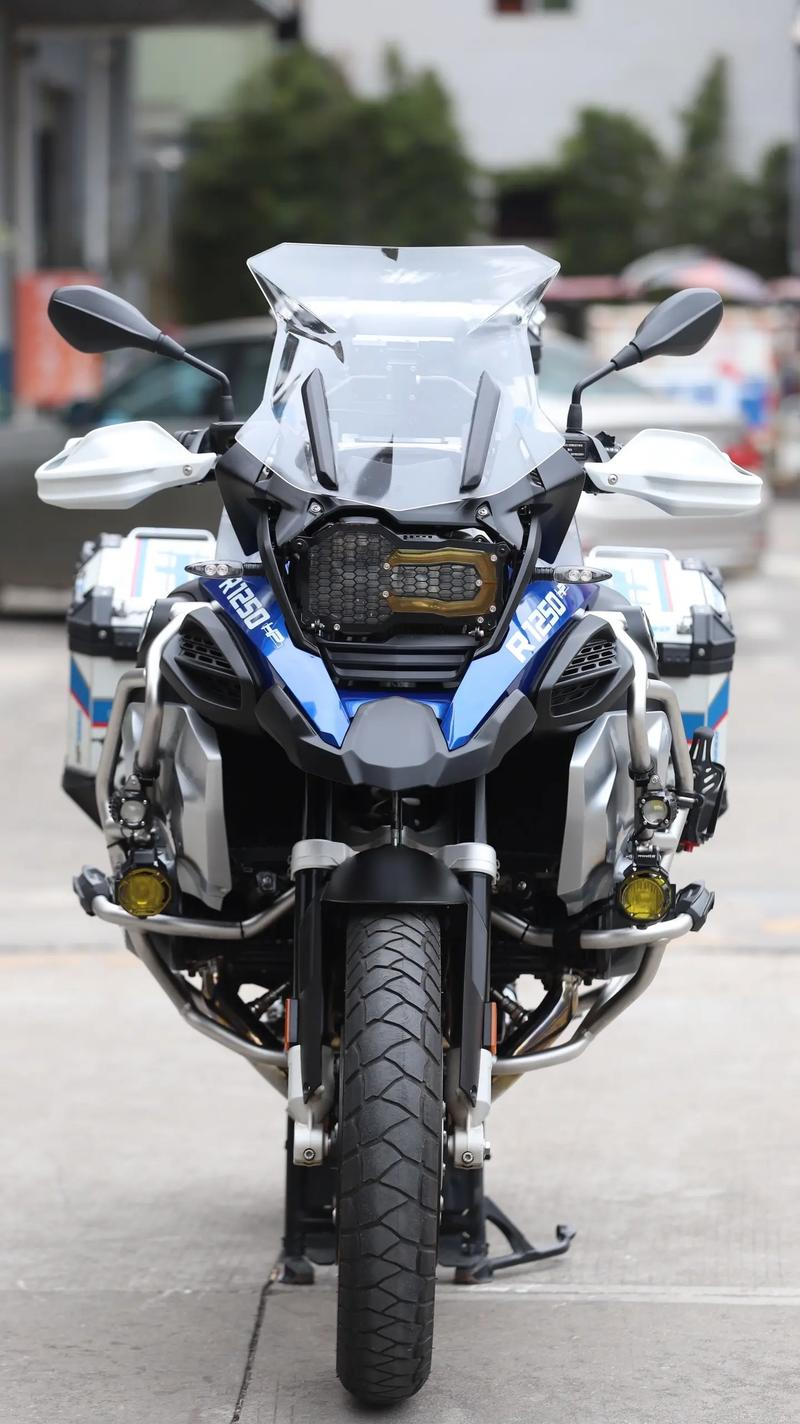摩托车: (25, 201, 781, 1419)
